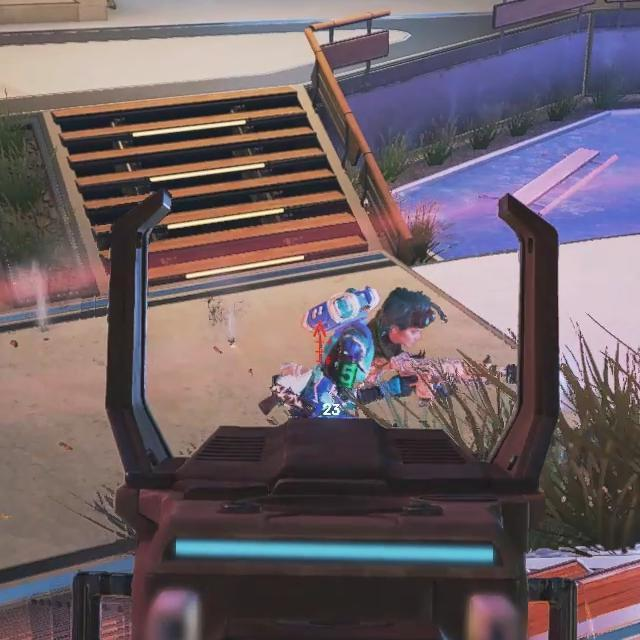avatar: (270, 285, 438, 422)
